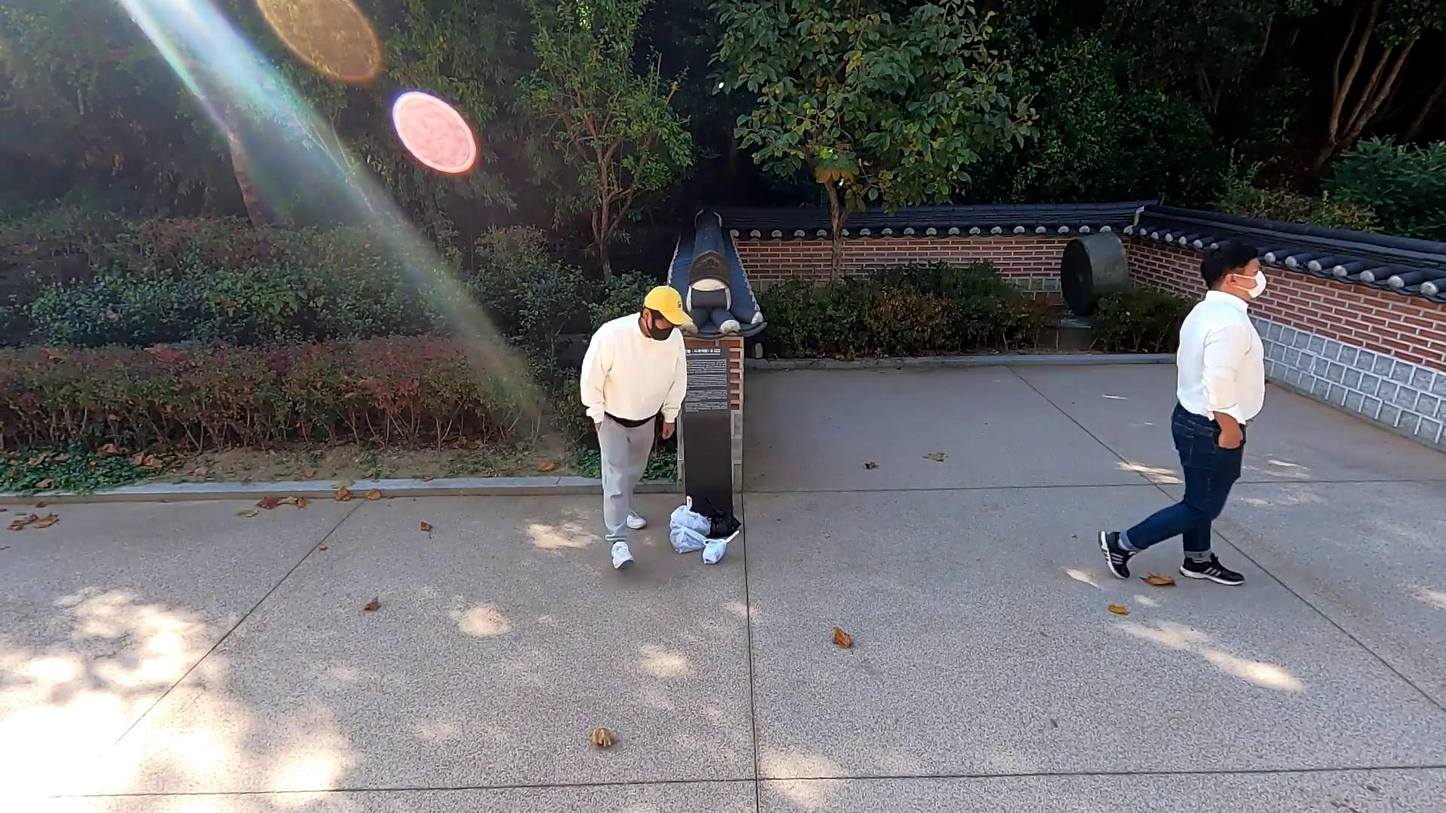person: (1089, 236, 1272, 590), (575, 278, 689, 577)
trash: (671, 493, 713, 540), (704, 497, 743, 540), (701, 528, 743, 565), (669, 523, 710, 556)
